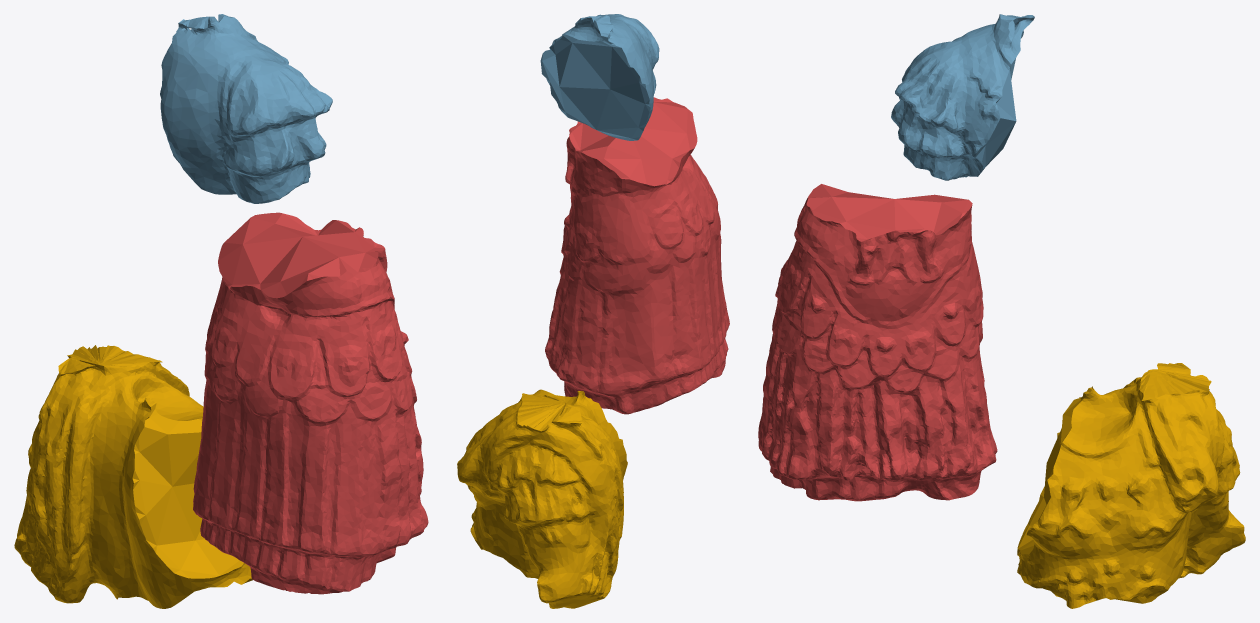
Rendered from fractured_13_3pcs_transformed.glb.
3 renders of one model, left to right at view 1: azimuth 30°, elevation 25°; view 2: azimuth 150°, elevation 25°; view 3: azimuth 270°, elevation 25°, orthographic. The views are drawn at different scales.
Parts seen in each view (by area): view 1: piece_1.obj, piece_0.obj, piece_2.obj; view 2: piece_1.obj, piece_0.obj, piece_2.obj; view 3: piece_1.obj, piece_0.obj, piece_2.obj.
Part boxes in pixels (x1,y1,x2,y2): piece_1.obj: [193, 212, 428, 594]; piece_0.obj: [14, 345, 252, 608]; piece_2.obj: [160, 14, 332, 203]; piece_1.obj: [545, 97, 729, 414]; piece_0.obj: [457, 389, 627, 608]; piece_2.obj: [540, 14, 659, 140]; piece_1.obj: [758, 184, 997, 501]; piece_0.obj: [1017, 363, 1245, 608]; piece_2.obj: [891, 14, 1034, 180].
Size of the model in its own units: 0.4705 by 1.31 by 0.9831.
